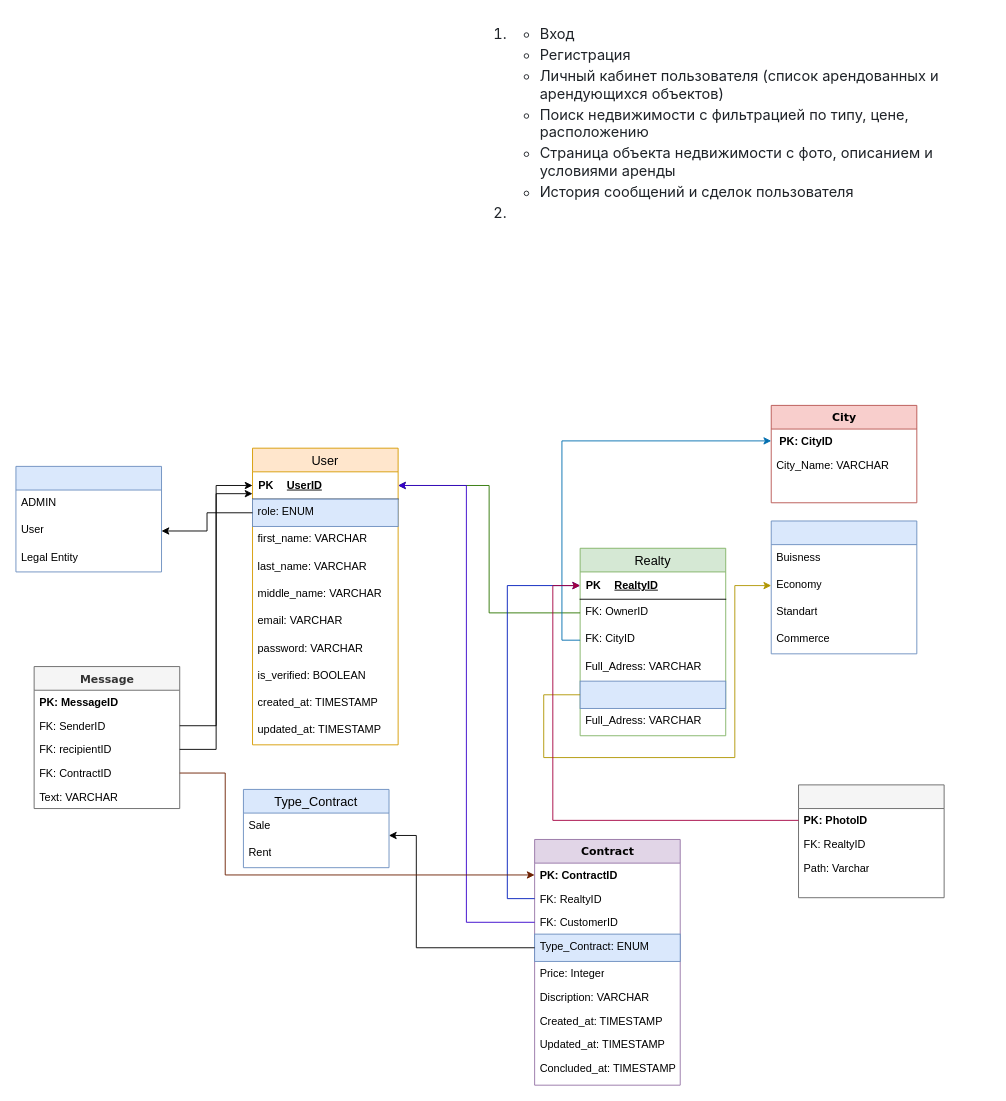
Some shapes in this 1006 by 1101 pixel diagram are drawn without their labels. The box of each missing label's shape, as (x1, y1, x2, y2) in pixels:
Class: (770, 520, 917, 654)
Class: ENUM: (579, 680, 726, 708)
Photos: (798, 784, 944, 898)
Roles: (15, 465, 162, 572)
